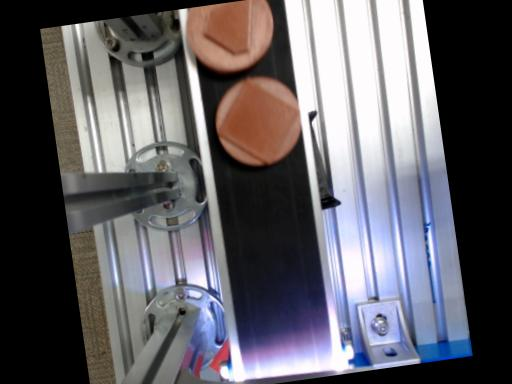Brown_Waper: (215, 76, 300, 166), (186, 0, 273, 73)
